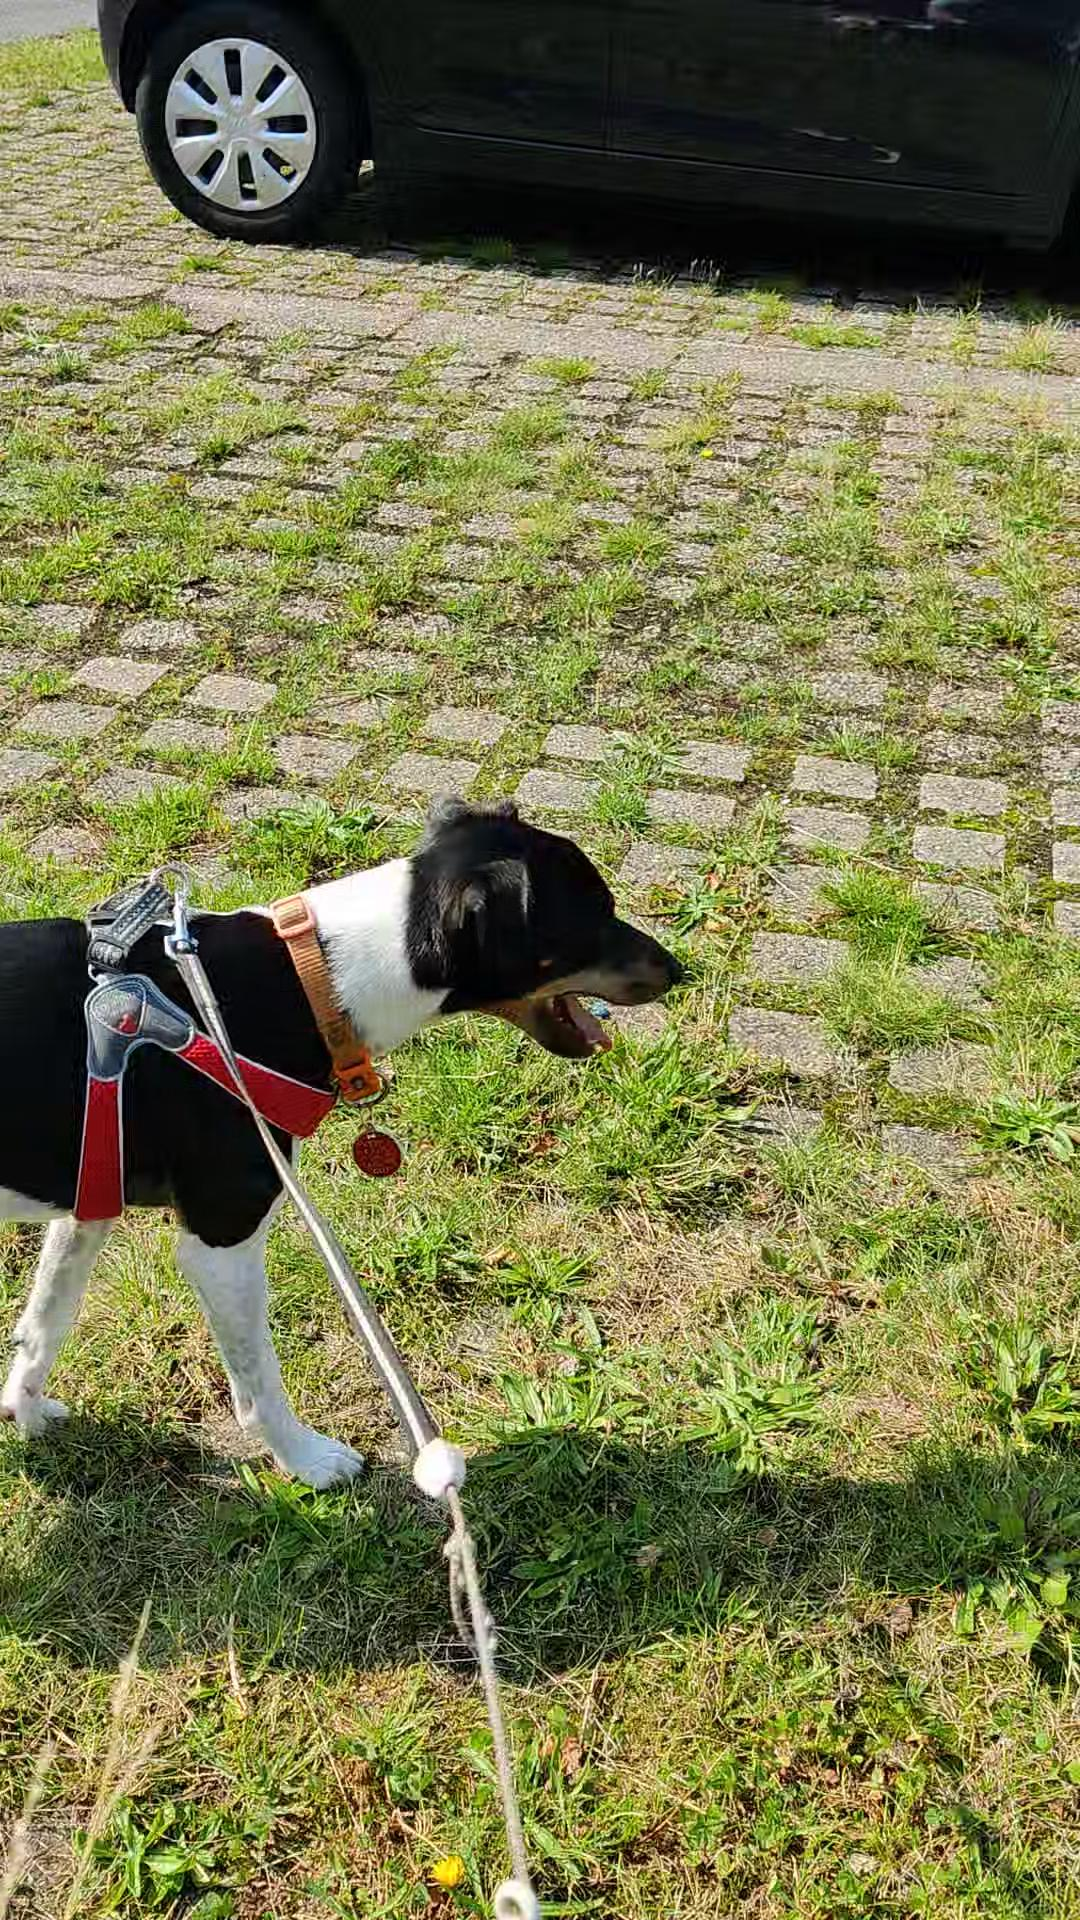Dog: (0, 791, 690, 1503)
